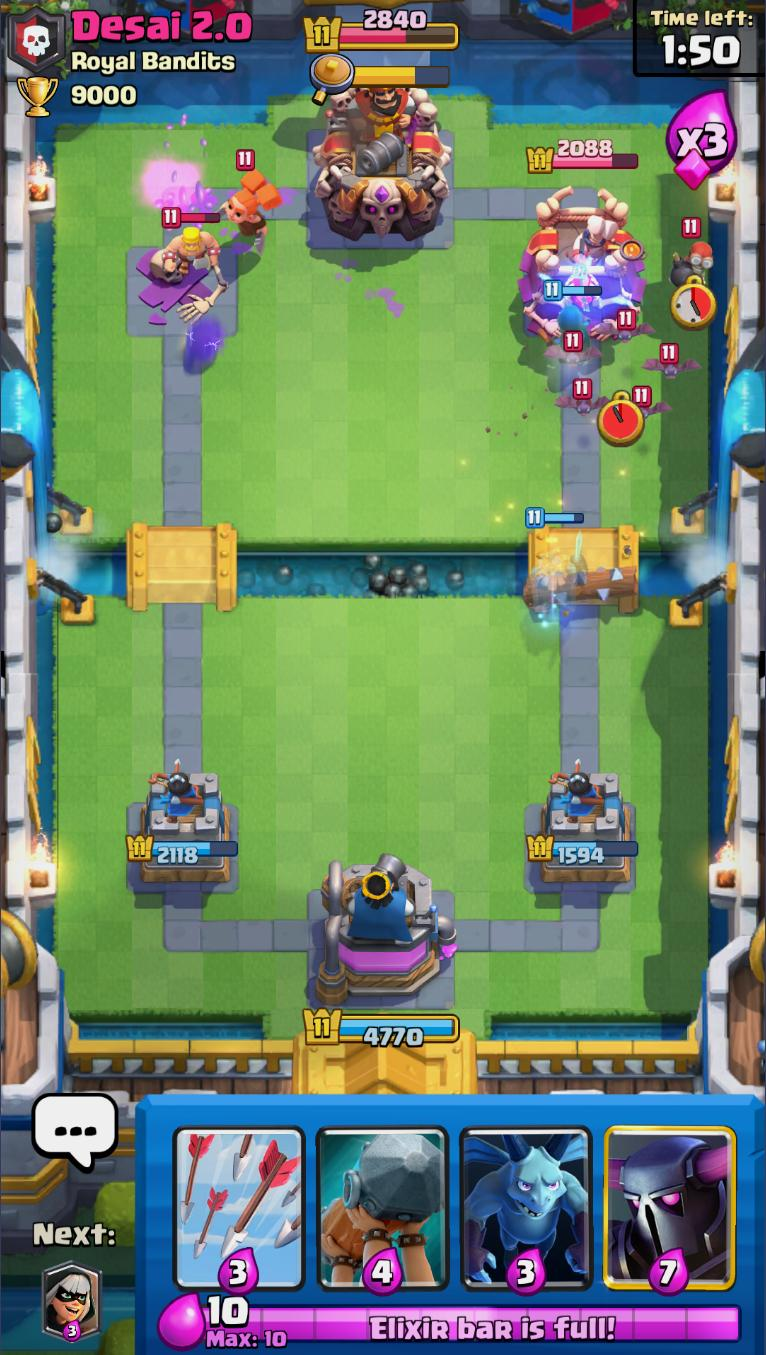ArrowDeck: (165, 1095, 314, 1296)
BanditNext: (38, 1260, 105, 1341)
Barbarian: (159, 208, 221, 274)
Bat: (551, 378, 613, 418), (542, 332, 602, 370), (640, 345, 702, 381), (600, 310, 656, 342), (623, 385, 671, 418)
BattleRamDeck: (310, 1095, 455, 1299)
Berserker: (209, 151, 280, 259)
Bomber: (669, 216, 714, 290)
Chef: (552, 199, 618, 273)
Elixir: (203, 1293, 748, 1351)
EnemyTower: (516, 186, 651, 346)
EnemyTowerBrocken: (128, 244, 242, 344)
KingTower: (310, 85, 456, 241)
KingTowerHP: (302, 10, 463, 56)
Log: (521, 566, 643, 611)
MinionsDeck: (450, 1096, 604, 1298)
MyBandit: (544, 281, 603, 333)
MyElectroSpirit: (181, 315, 230, 374)
MyKingHP: (301, 1006, 463, 1053)
MyKingTower: (315, 856, 460, 1008)
MyPrincessTower: (126, 766, 238, 891), (539, 771, 638, 889)
MyPrincessTowerHP: (525, 832, 642, 870), (126, 835, 243, 868)
MyRoyaleGhost: (523, 506, 591, 631)
PekkaDeck: (599, 1098, 744, 1296)
TowerPrincessHP: (528, 138, 641, 178)
